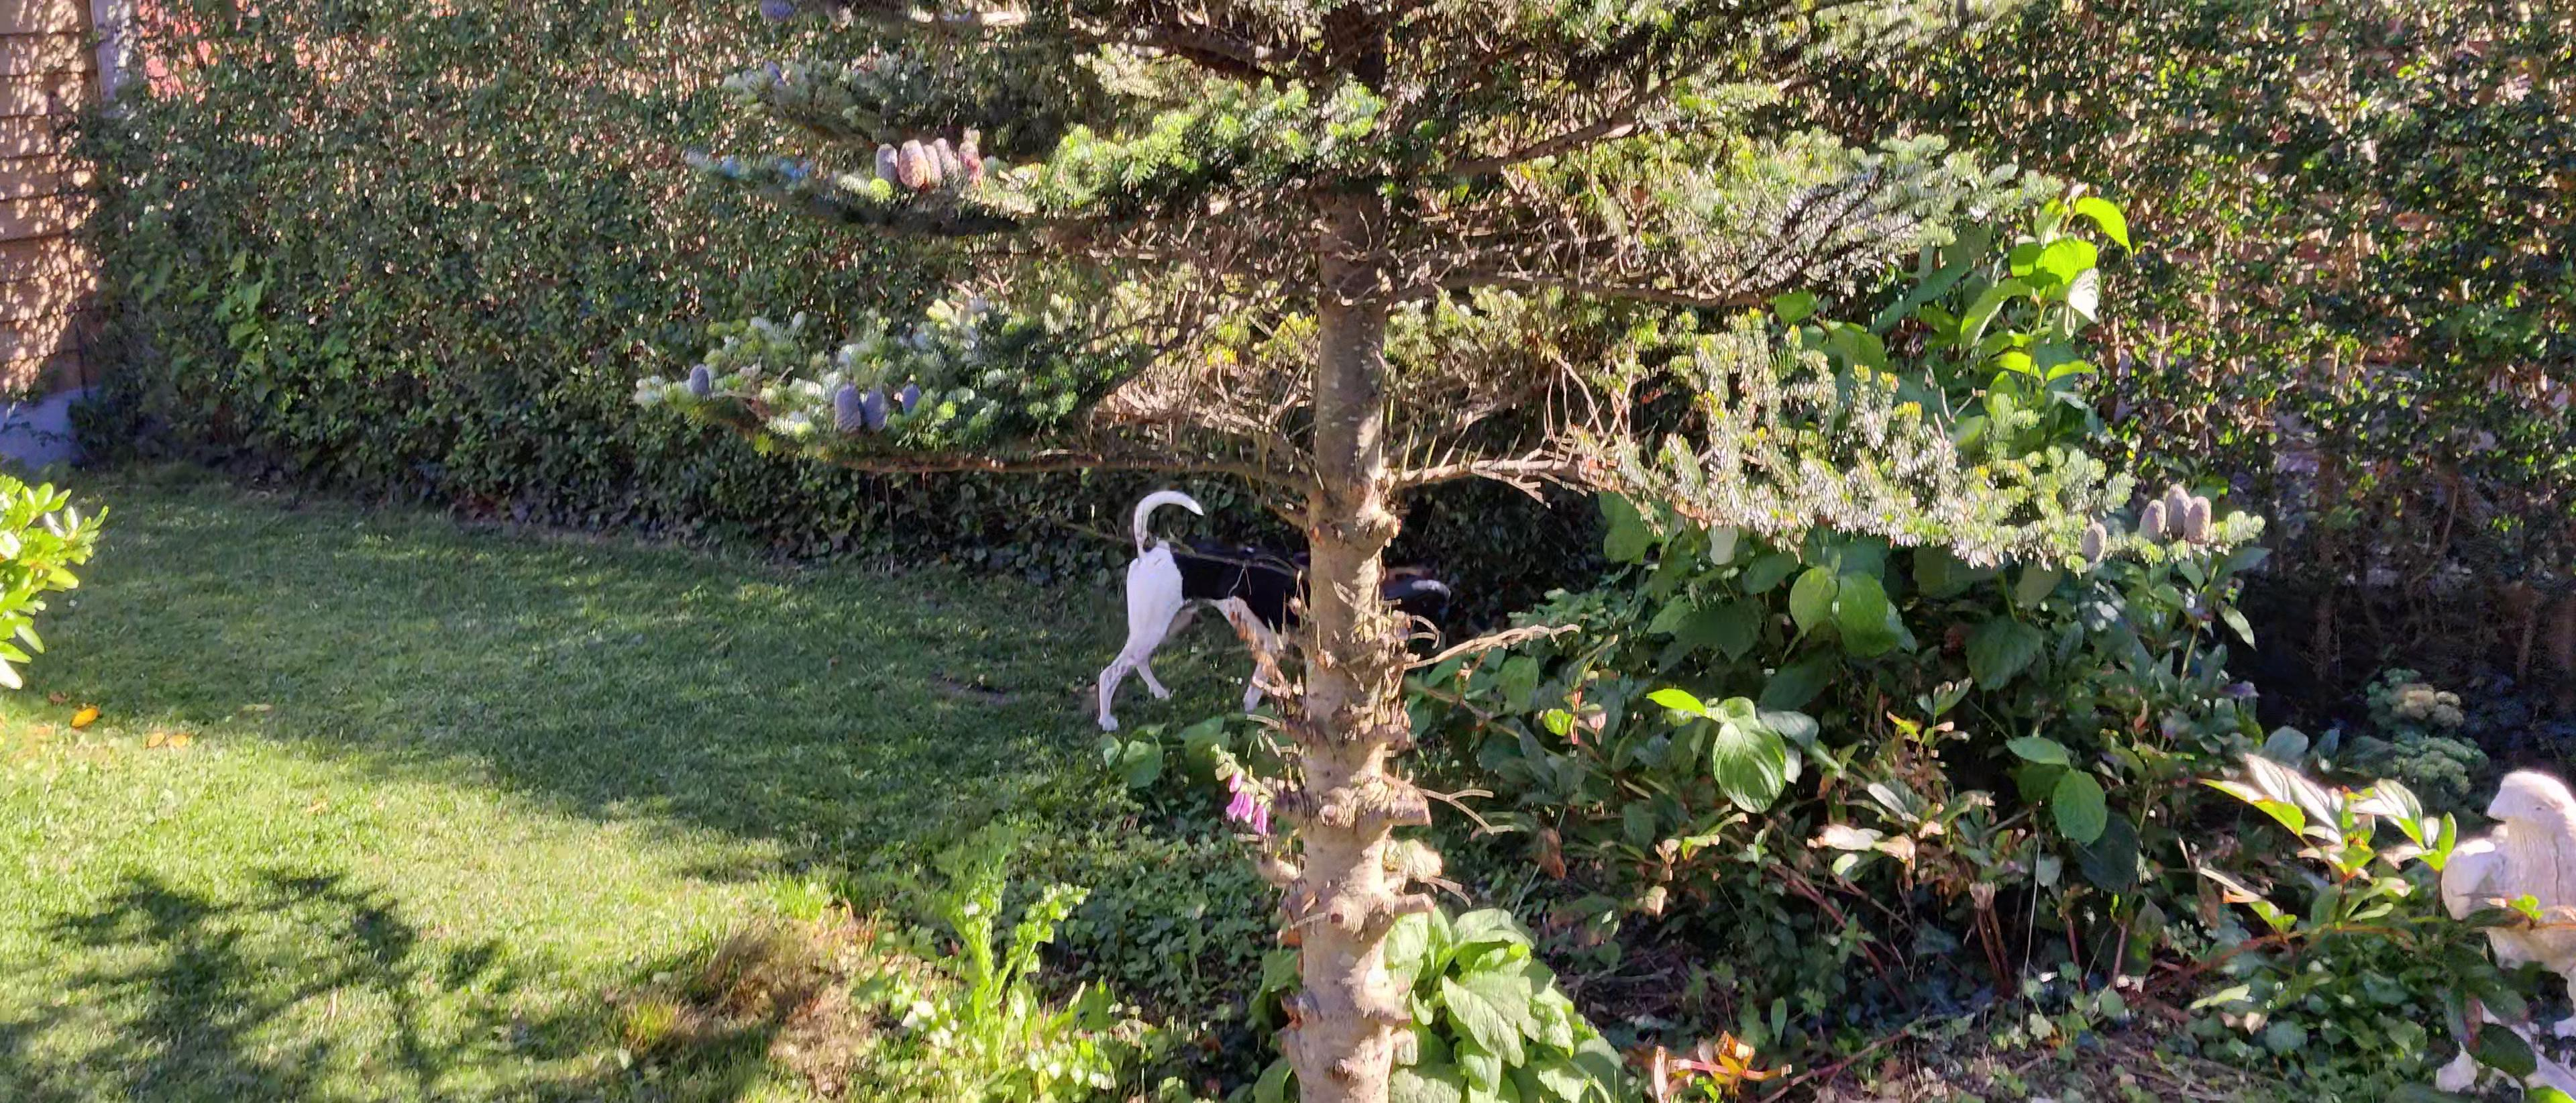Dog: (1092, 487, 1439, 735)
